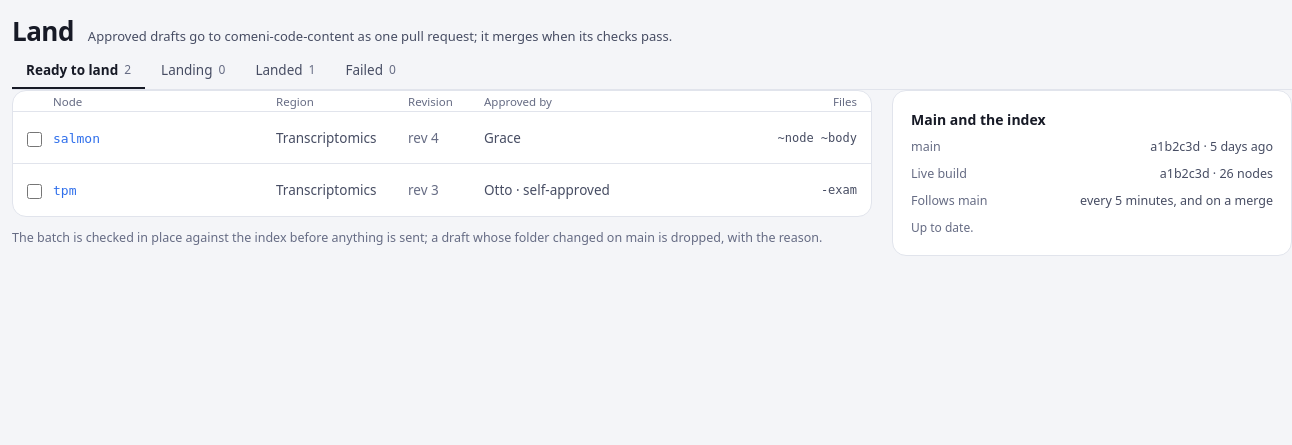
Test: LandPage — ready to land › says a refusal, each problem under the draft it names
Click the checkbox named "Pick tpm": (34, 191) x1=27 y1=184 x2=42 y2=199
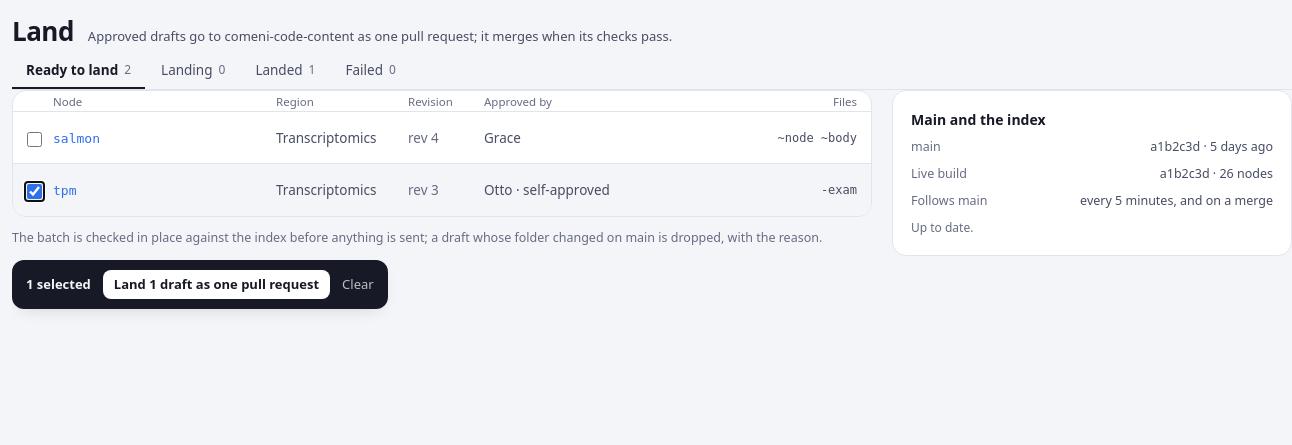
Click the button "Land 1 draft as one pull request": (217, 284) x1=103 y1=270 x2=330 y2=299
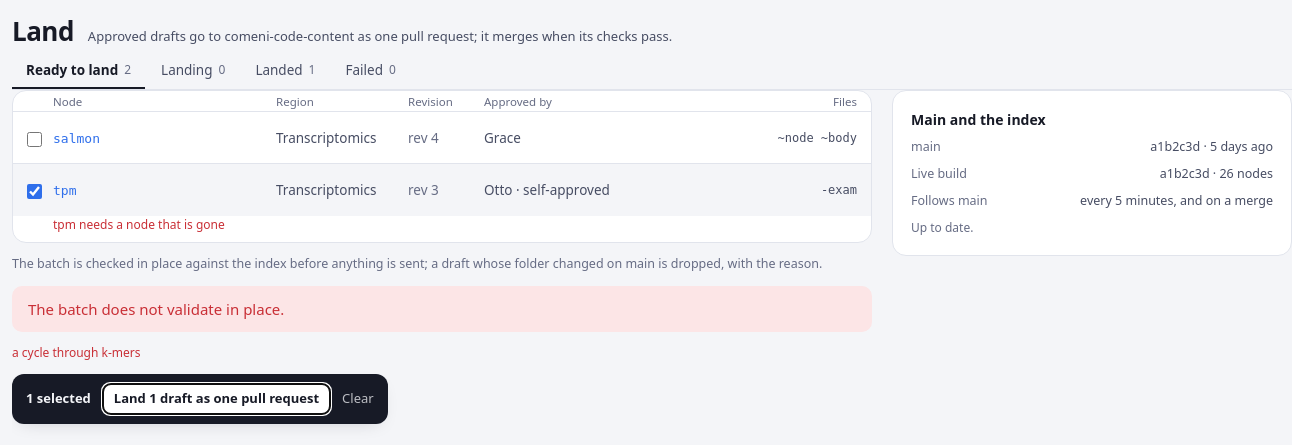
Check: the row "tpm Transcriptomics rev 3 Otto · self-approved -exam" is shown, box x1=13 y1=164 x2=871 y2=216
Check: the text "The batch does not validate in place." is shown, box x1=12 y1=286 x2=872 y2=332
Check: the text "a cycle through k-mers" is shown, box x1=12 y1=344 x2=140 y2=361
